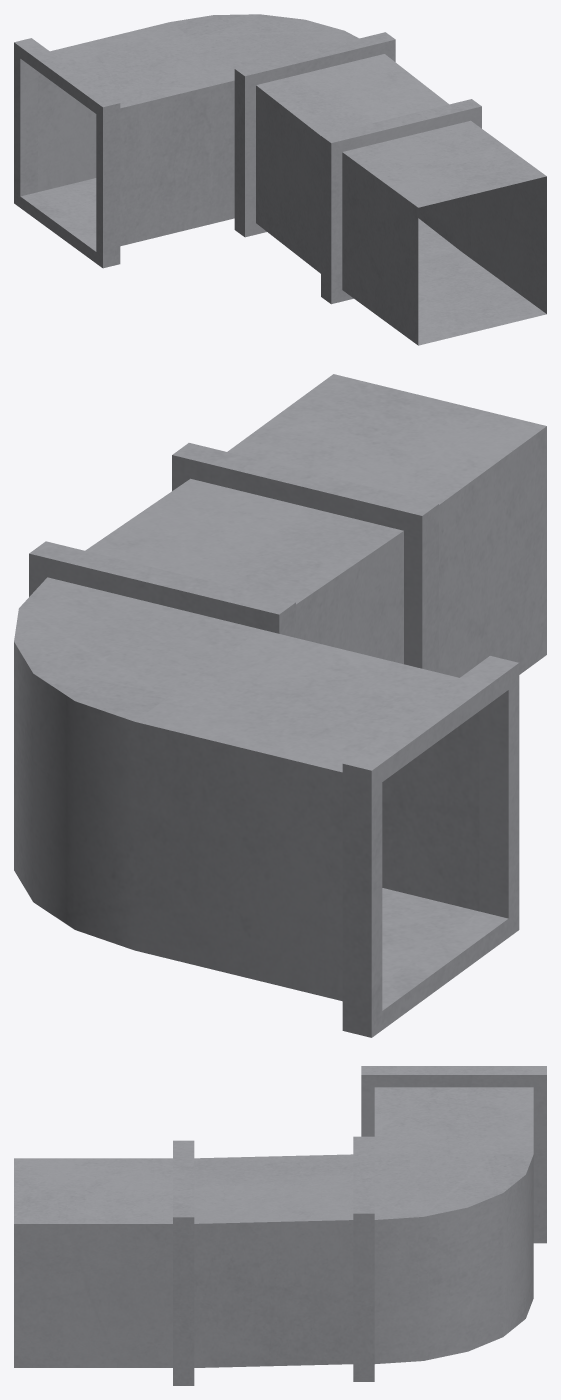
The model's file is ventgoingoutsideofroom.glb.
3 renders of one model, top to bottom at view 1: azimuth 30°, elevation 25°; view 2: azimuth 150°, elevation 25°; view 3: azimuth 270°, elevation 25°, orthographic. The views are drawn at different scales.
Visible parts, largest first — view 1: Plane.001; view 2: Plane.001; view 3: Plane.001.
Boxes of the visible parts, <box> form: Plane.001: <box>14,14,546,345</box>; Plane.001: <box>14,374,546,1037</box>; Plane.001: <box>14,1066,546,1385</box>.
Bounding box in the file's own units: 3.29 × 1.79 × 5.03.
Materials: 1 (1 with a texture image).
